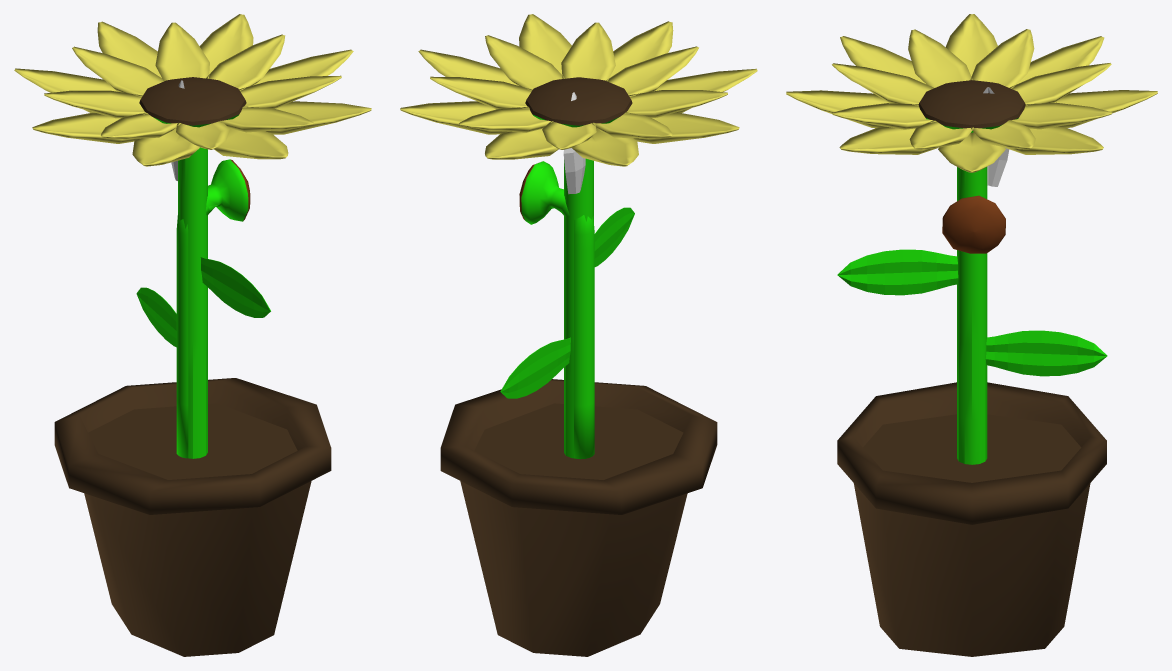
The model's file is SonenBlumne.fbx.
3 views of the same model, side by side, from view 1: azimuth 30°, elevation 25°; view 2: azimuth 150°, elevation 25°; view 3: azimuth 270°, elevation 25° (orthographic).
Parts seen in each view (by area): view 1: Topf, Zylinder, Stängel, Würfel.001, Blatt.012, Blatt.013, Blatt.011, Blatt.014, Blatt.010, Blatt.003, Blatt.004, Blatt.001 (+9 smaller); view 2: Topf, Zylinder, Stängel, Würfel, Blatt.015, Blatt.014, Blatt.016, Blatt.013, Blatt.009, Blatt.006, Blatt.007, Blatt.001 (+10 smaller); view 3: Topf, Zylinder, Würfel, Würfel.001, Stängel, Blatt.010, Blatt.009, Blatt.016, Blatt.011, Blatt.015, Blatt.012, Blatt.001 (+9 smaller).
Part boxes in pixels (x1=…): Topf: x1=54, y1=378, x2=331, y2=656; Zylinder: x1=139, y1=77, x2=246, y2=458; Stängel: x1=176, y1=159, x2=250, y2=458; Würfel.001: x1=200, y1=257, x2=270, y2=317; Blatt.012: x1=155, y1=22, x2=209, y2=81; Blatt.013: x1=206, y1=34, x2=285, y2=90; Blatt.011: x1=72, y1=46, x2=165, y2=96; Blatt.014: x1=239, y1=75, x2=341, y2=108; Blatt.010: x1=44, y1=90, x2=147, y2=118; Blatt.003: x1=97, y1=21, x2=161, y2=77; Blatt.004: x1=199, y1=14, x2=253, y2=73; Blatt.001: x1=32, y1=113, x2=137, y2=143; Topf: x1=440, y1=379, x2=717, y2=656; Zylinder: x1=525, y1=77, x2=632, y2=458; Stängel: x1=519, y1=161, x2=594, y2=459; Würfel: x1=500, y1=337, x2=570, y2=398; Blatt.015: x1=561, y1=22, x2=615, y2=81; Blatt.014: x1=485, y1=35, x2=564, y2=91; Blatt.016: x1=606, y1=46, x2=698, y2=96; Blatt.013: x1=430, y1=76, x2=532, y2=109; Blatt.009: x1=624, y1=90, x2=727, y2=117; Blatt.006: x1=519, y1=14, x2=571, y2=74; Blatt.007: x1=609, y1=21, x2=673, y2=77; Blatt.001: x1=633, y1=113, x2=739, y2=143; Topf: x1=837, y1=382, x2=1106, y2=656; Zylinder: x1=918, y1=80, x2=1025, y2=464; Würfel: x1=985, y1=330, x2=1107, y2=376; Würfel.001: x1=837, y1=249, x2=958, y2=295; Stängel: x1=942, y1=195, x2=1005, y2=253; Blatt.010: x1=970, y1=29, x2=1034, y2=88; Blatt.009: x1=908, y1=29, x2=972, y2=88; Blatt.016: x1=832, y1=63, x2=934, y2=105; Blatt.011: x1=1009, y1=63, x2=1111, y2=105; Blatt.015: x1=832, y1=103, x2=936, y2=129; Blatt.012: x1=1008, y1=102, x2=1112, y2=129; Blatt.001: x1=945, y1=14, x2=997, y2=76.
Size of the model in its own units: 418 by 668 by 418.
